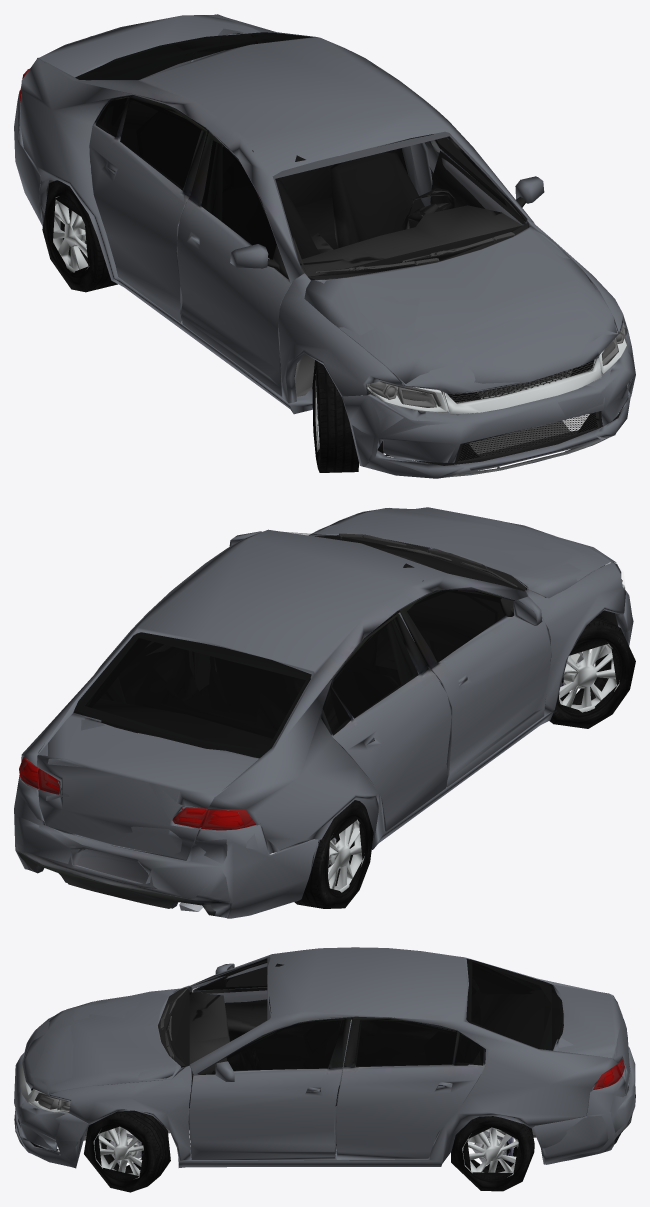
3 renders of one model, top to bottom at view 1: azimuth 30°, elevation 25°; view 2: azimuth 150°, elevation 25°; view 3: azimuth 270°, elevation 25°, orthographic. The views are drawn at different scales.
Visible parts, largest first — view 1: sedan-unibody_65, hood_60, windshield_102, bumper-front_8, door-front-r_17, door-rear-r_23, fender-front-r_33, front-seat-backrest_39, dashboard_13, trunk_99, door-rear-window-glass-r_27, door-front-window-glass-r_19 (+22 smaller); view 2: sedan-unibody_65, trunk_99, glass-rear_42, bumper-rear_10, door-front-r_17, door-rear-r_23, hood_60, fender-front-r_33, door-rear-window-glass-r_27, door-front-window-glass-r_19, generic-tire-low.001_125, generic-tire-low.003_133 (+7 smaller); view 3: sedan-unibody_65, door-front-l_16, door-rear-l_22, hood_60, windshield_102, glass-rear_42, fender-front-l_32, bumper-rear_10, trunk_99, door-rear-window-glass-l_26, generic-tire-low_121, door-front-window-glass-l_18 (+11 smaller).
Boxes of the visible parts, x1,y1,x2,y2 form: sedan-unibody_65: [18, 14, 534, 414]; hood_60: [304, 226, 618, 394]; windshield_102: [273, 132, 529, 276]; bumper-front_8: [342, 327, 635, 478]; door-front-r_17: [177, 131, 292, 396]; door-rear-r_23: [89, 95, 208, 322]; fender-front-r_33: [278, 273, 404, 403]; front-seat-backrest_39: [330, 151, 424, 248]; dashboard_13: [299, 205, 522, 276]; trunk_99: [37, 14, 260, 77]; door-rear-window-glass-r_27: [120, 98, 201, 190]; door-front-window-glass-r_19: [201, 140, 276, 259]; sedan-unibody_65: [20, 529, 553, 853]; trunk_99: [37, 713, 259, 860]; glass-rear_42: [73, 632, 311, 758]; bumper-rear_10: [14, 775, 319, 918]; door-front-r_17: [399, 589, 551, 786]; door-rear-r_23: [321, 612, 451, 831]; hood_60: [309, 507, 616, 598]; fender-front-r_33: [524, 562, 625, 715]; door-rear-window-glass-r_27: [332, 619, 418, 718]; door-front-window-glass-r_19: [407, 590, 504, 662]; generic-tire-low.001_125: [549, 614, 635, 728]; generic-tire-low.003_133: [294, 800, 373, 908]; sedan-unibody_65: [178, 947, 622, 1167]; door-front-l_16: [189, 1017, 351, 1159]; door-rear-l_22: [335, 1016, 485, 1159]; hood_60: [22, 988, 180, 1095]; windshield_102: [166, 957, 270, 1065]; glass-rear_42: [466, 959, 563, 1050]; fender-front-l_32: [49, 1065, 192, 1160]; bumper-rear_10: [531, 1046, 635, 1164]; trunk_99: [552, 984, 630, 1095]; door-rear-window-glass-l_26: [355, 1020, 456, 1067]; generic-tire-low_121: [84, 1110, 170, 1192]; door-front-window-glass-l_18: [227, 1020, 343, 1070].
Size of the model in its own units: 0.4291 by 0.2924 by 0.9972.
21 materials, 7 textured.
